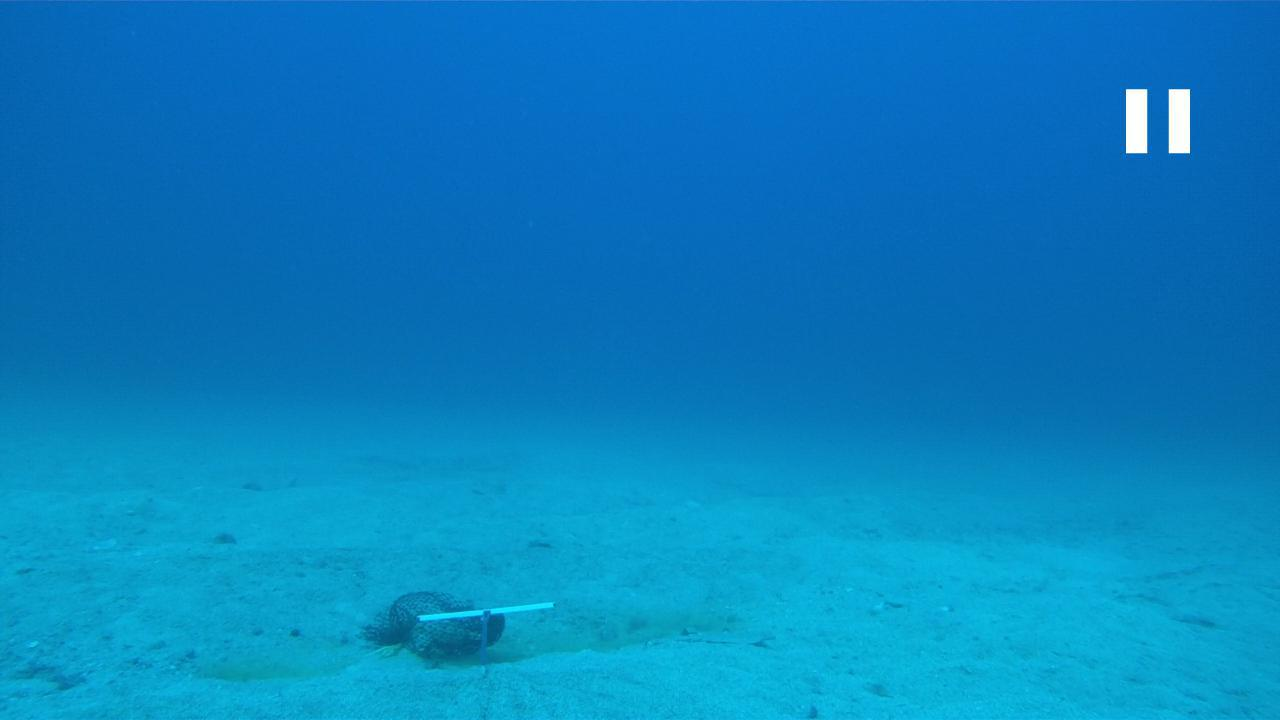bothus: (647, 624, 781, 647)
